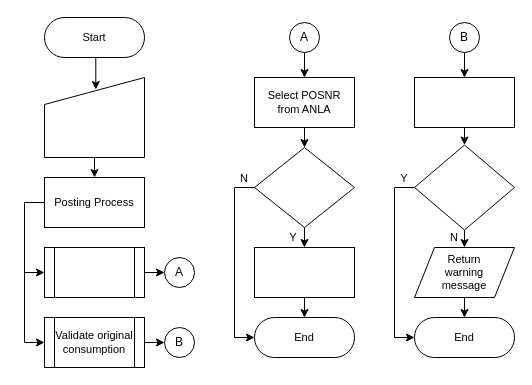
Image size: 532x385. Some labels were removed from this diagram. The centre of each missing label's shape, as x and y in pixels:
Get WBS Element: the point at 94,272
Go to transaction FB01 or F-02 or FB05. Enter the correct details: the point at 94,117
Populate WBS Element to the first & second line item: the point at 304,272
result is equal to amount entered?: the point at 464,187
Select WRBTR from BSEG: the point at 464,102
WBS Element is not initial?: the point at 304,187
